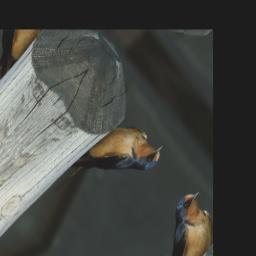Swallow: (49, 106, 168, 236)
